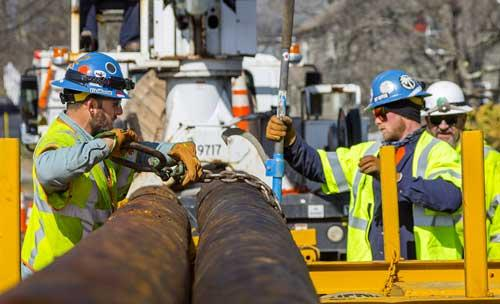helmet: (54, 54, 130, 104), (370, 70, 430, 110), (422, 83, 473, 118)
